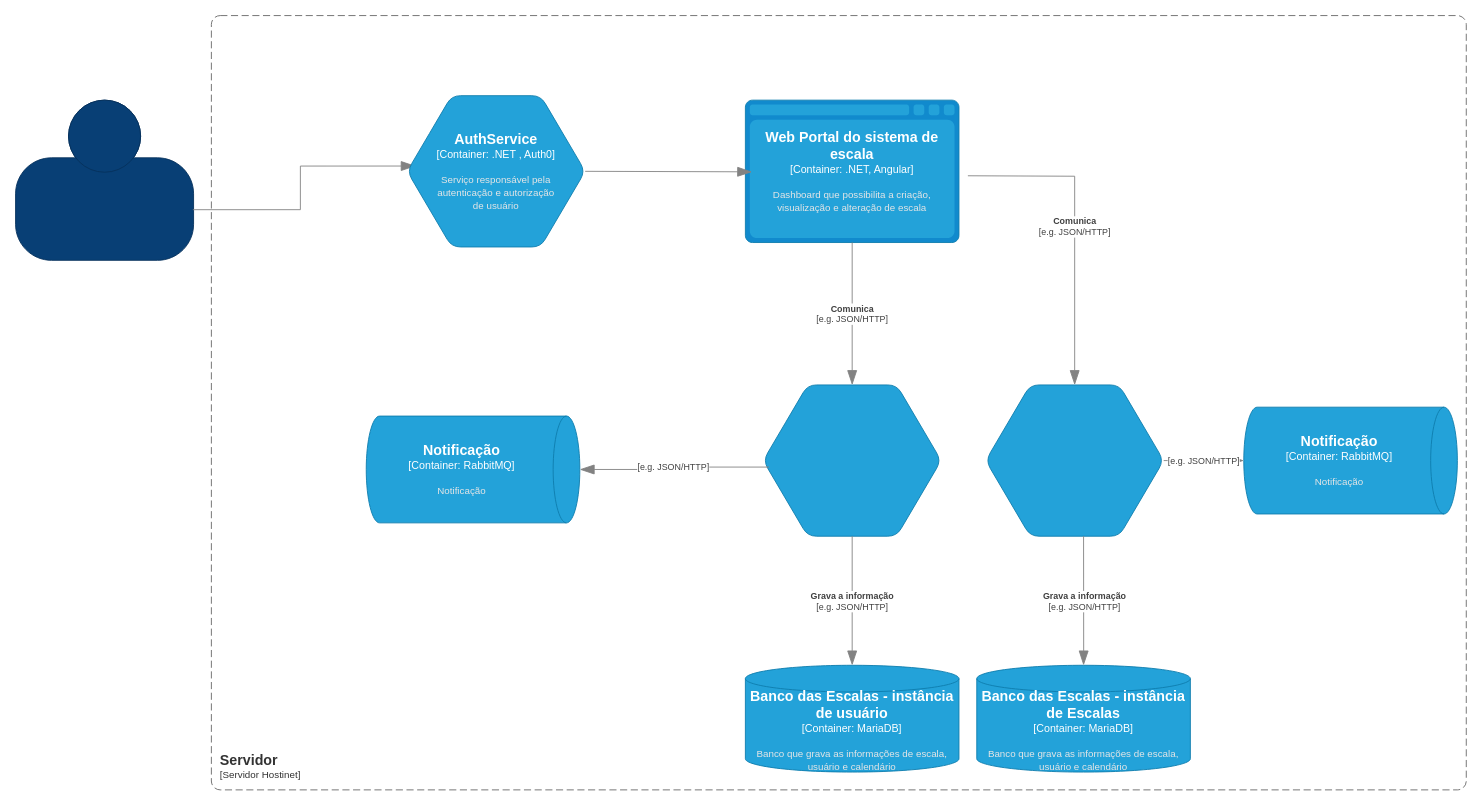
Image size: 1482x805. Some labels were removed from this diagram. The centre of each missing label's shape, as x and y in pixels:
"ShiftService [Container: .NET ] Serviço responsável por gerenciamento de escala" goes at pixel 1074 460.
"UserService [Container: .NET] Serviço responsável por cadastro de usuário" goes at pixel 851 460.
"Usuário Usuário [Usuário] Usuário" goes at pixel 104 179.
